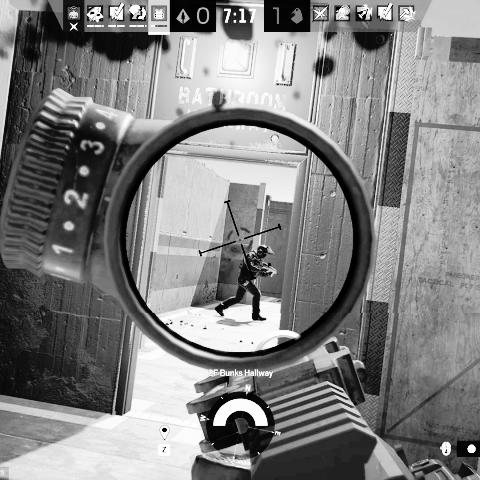Character: (214, 244, 279, 323)
Head: (256, 244, 272, 258)
